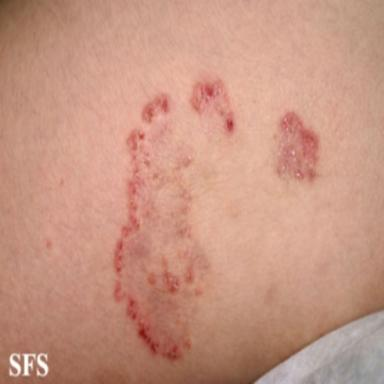Tinea-Corporis: (112, 74, 238, 363), (271, 113, 318, 187)
